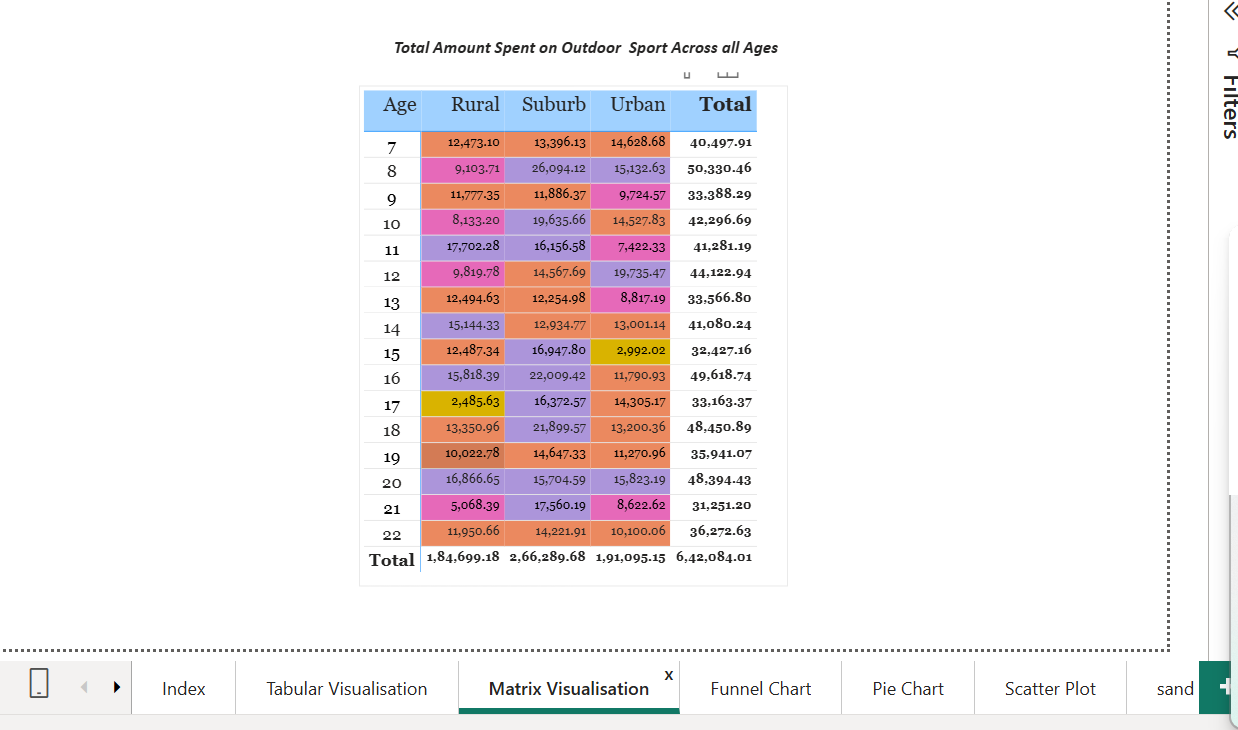

This screenshot's page, from the dashboard's own definition file:
{"tool":"powerbi","page":{"name":"Matrix Visualisation","canvas":[1280,720],"ordinal":2},"visuals":[{"type":"pivotTable","fields":{"Columns":["Student Survey.Store Setting"],"Rows":["Student Survey.Age"],"Values":["Sum(Student Survey.Total Amount of Purchases)"]},"box":[408,111.7,463.1,540.8],"z":0},{"type":"textbox","box":[440.4,53.4,451.8,43.7],"z":1000}]}

Visuals, with their boxes on the page's 1280x720 design canvas (x1, y1, x2, y2). These are canvas units, not pixel positions in the 1238x730 screenshot, which may show the page scaled, cropped or inside an application window:
pivotTable - Student Survey.Store Setting x Student Survey.Age: <box>408,112,871,652</box>
textbox: <box>440,53,892,97</box>
